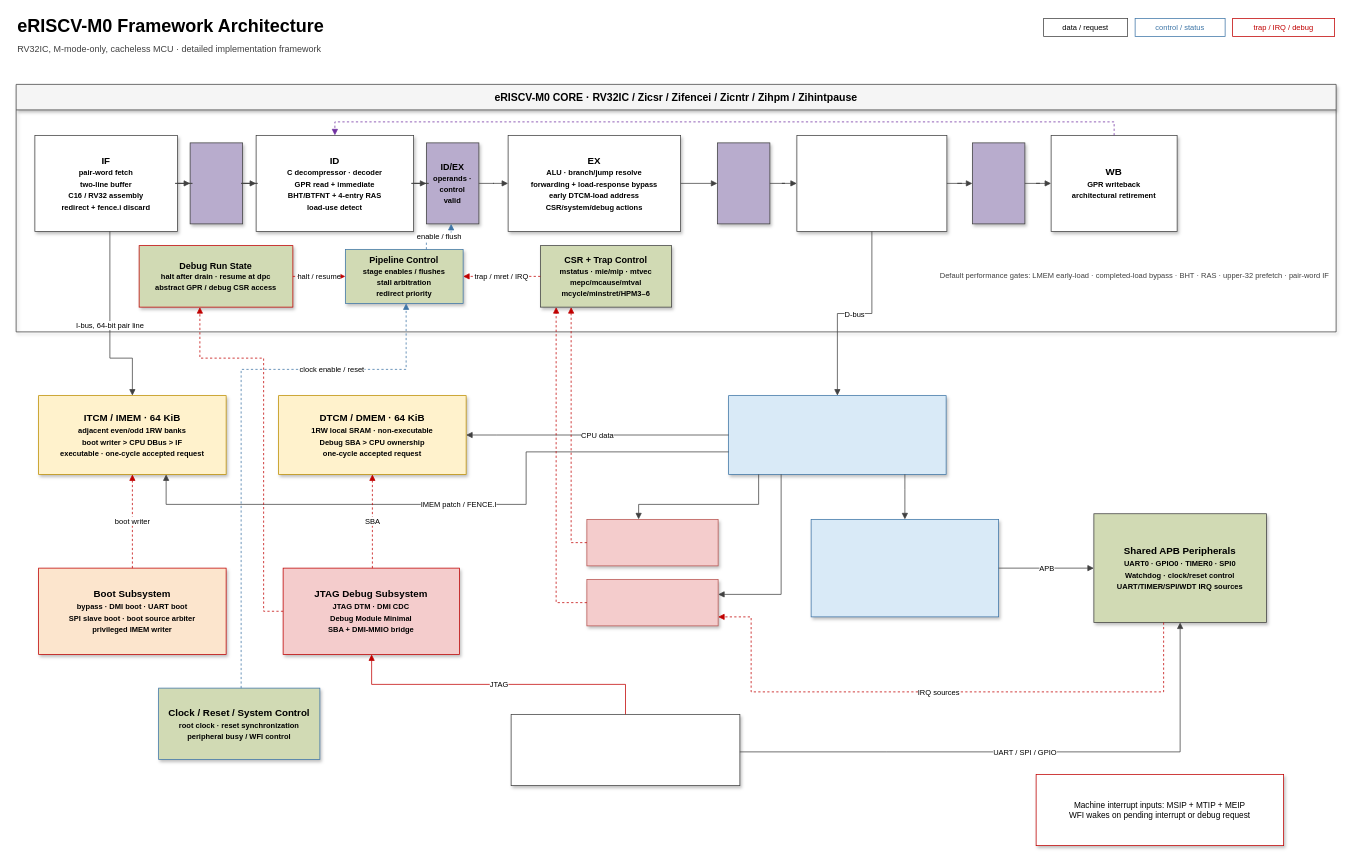
Image size: 1354x864. Some labels were removed from this diagram. The centre of each missing label's shape, as x and y in pixels:
APB Bridge + Interconnect 32-bit DBus-to-APB · PREADY/PSLVERR: the point at 905,569
CLINT MSIP · MTIME · MTIMECMP: the point at 653,543
D-bus Interconnect IMEM · DMEM · CLINT · PLIC · APB unmapped → error response: the point at 838,436
EX/MEM address · store data valid: the point at 744,184
External Interfaces JTAG · UART · SPI · GPIO clock/reset · boot-mode pins: the point at 625,751
IF/ID pc · instr · valid: the point at 216,184
MEM D-bus request/response local-load completion load align + sign extend: the point at 872,184
MEM/WB wb data · rd · valid: the point at 999,184
PLIC v1.0 32 sources · one context MEIP: the point at 653,603
